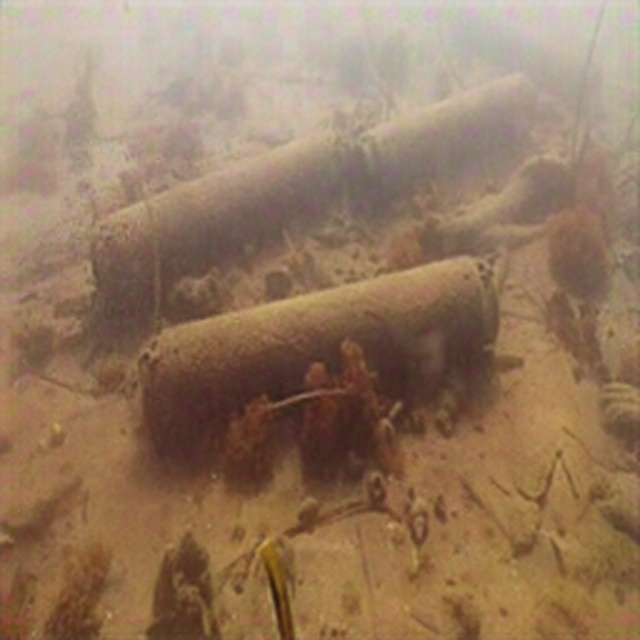mine: (139, 254, 498, 442), (89, 128, 339, 306), (354, 71, 540, 189)
